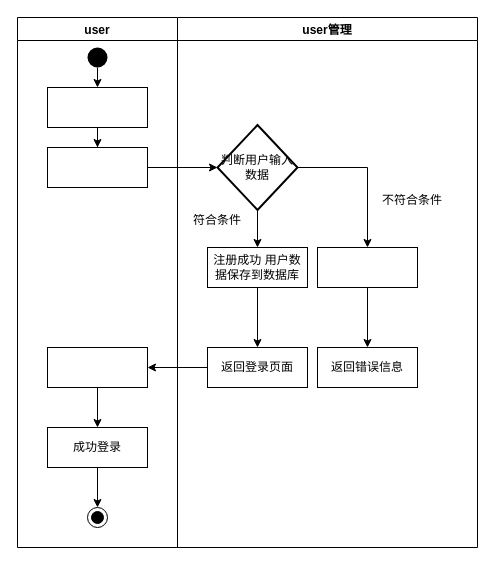
This 495x565 diagram has some shape labels left out. Each missing label, with the centre of its shape:
注册失败: point 367,267
访问注册页面: point 97,107
输入用户信息: point 97,167
输入用户名密码: point 97,367
